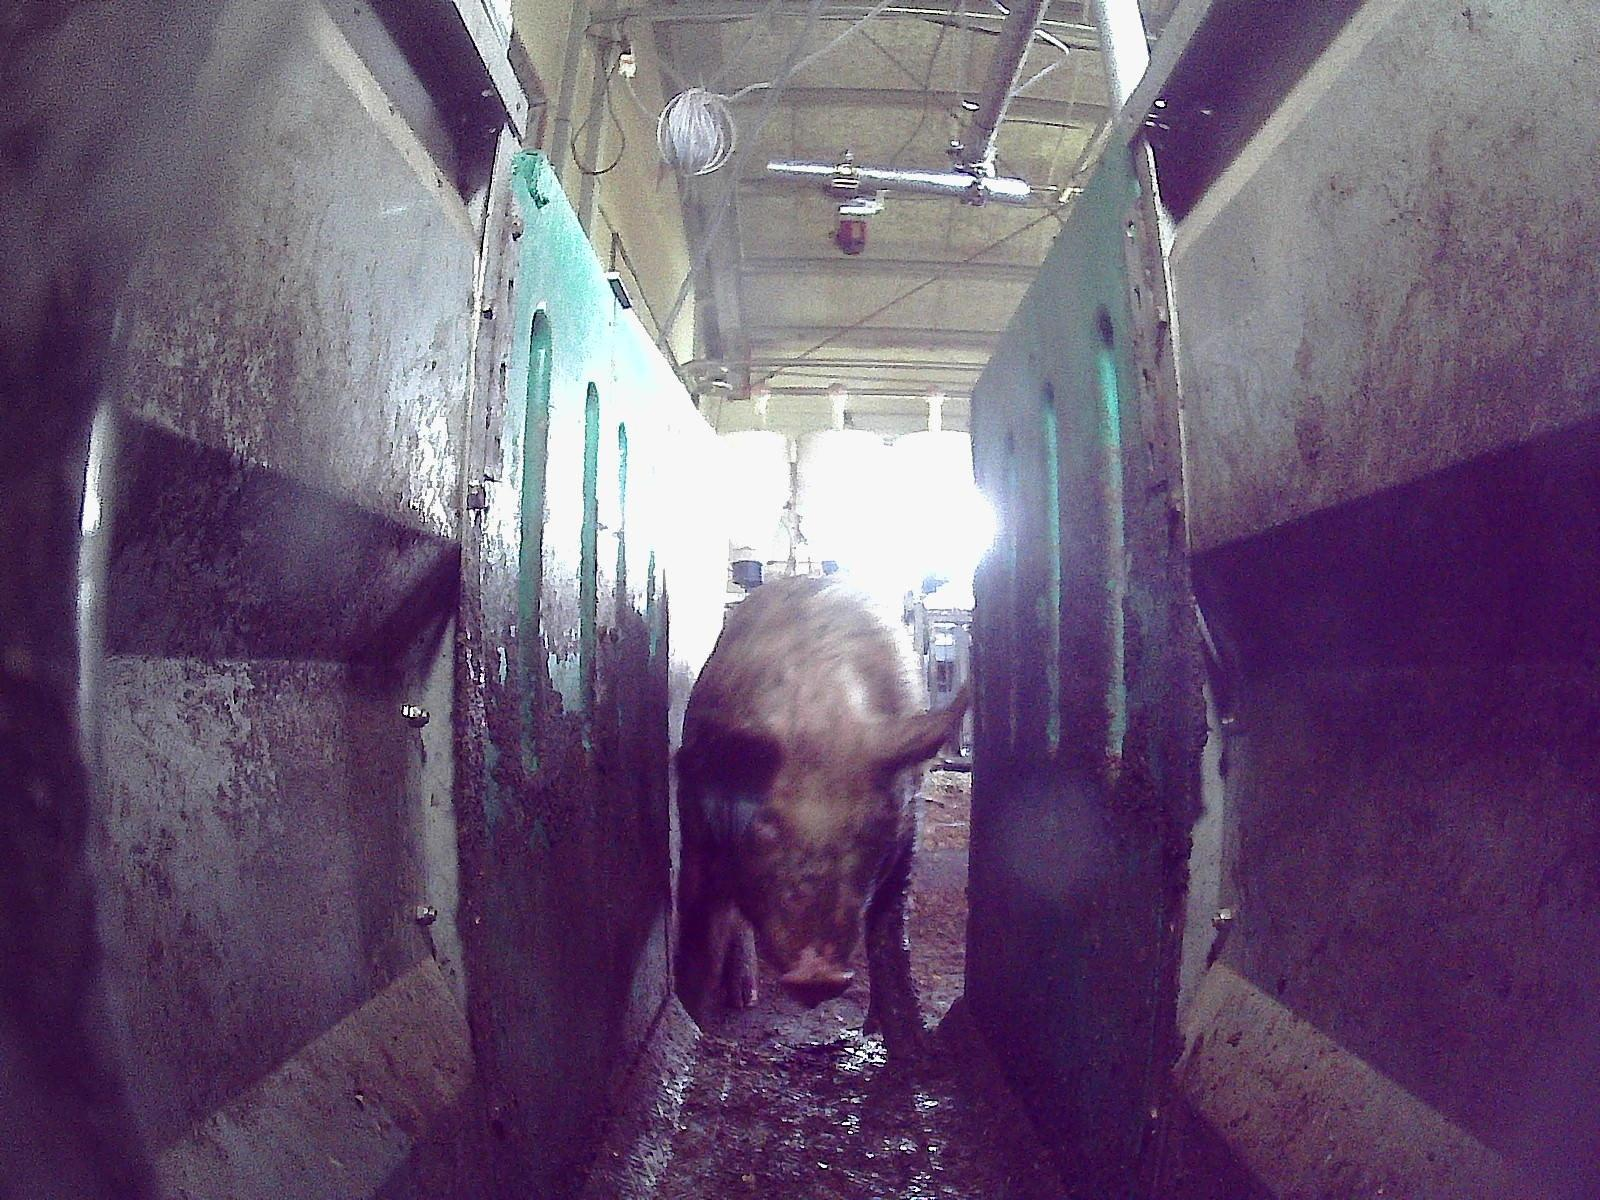Face: (725, 746, 899, 1006)
